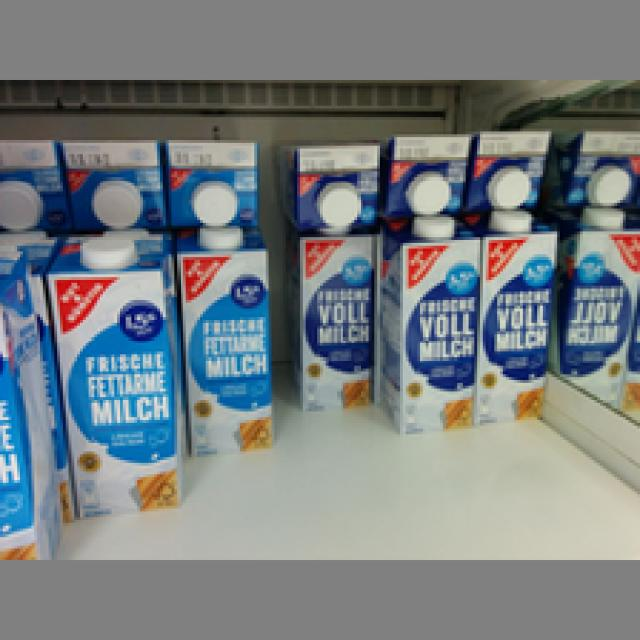groceries: (40, 228, 183, 508), (171, 226, 280, 448), (377, 206, 472, 434), (472, 211, 554, 423), (292, 235, 374, 414)
